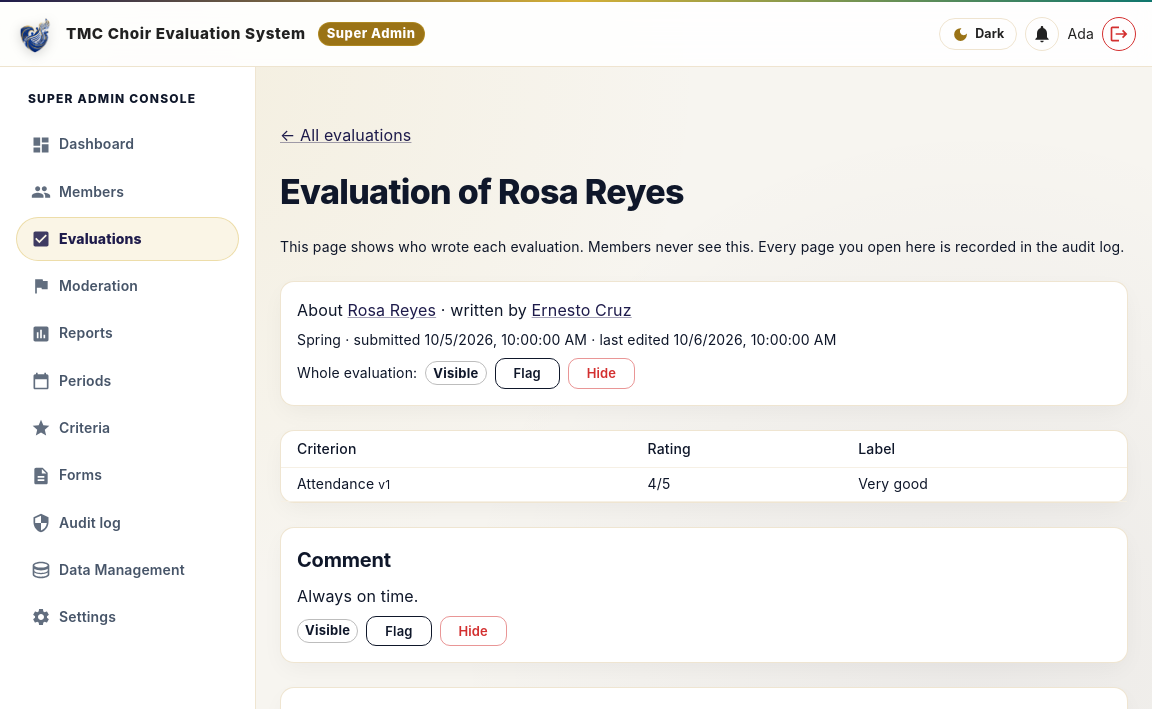
Test case: Evaluation detail and moderation (ADM-05) › requires a reason to hide, then hides the comment
Step 1. Click the button with aria-label "Hide comment" → (473,631), box [440,616,507,646]
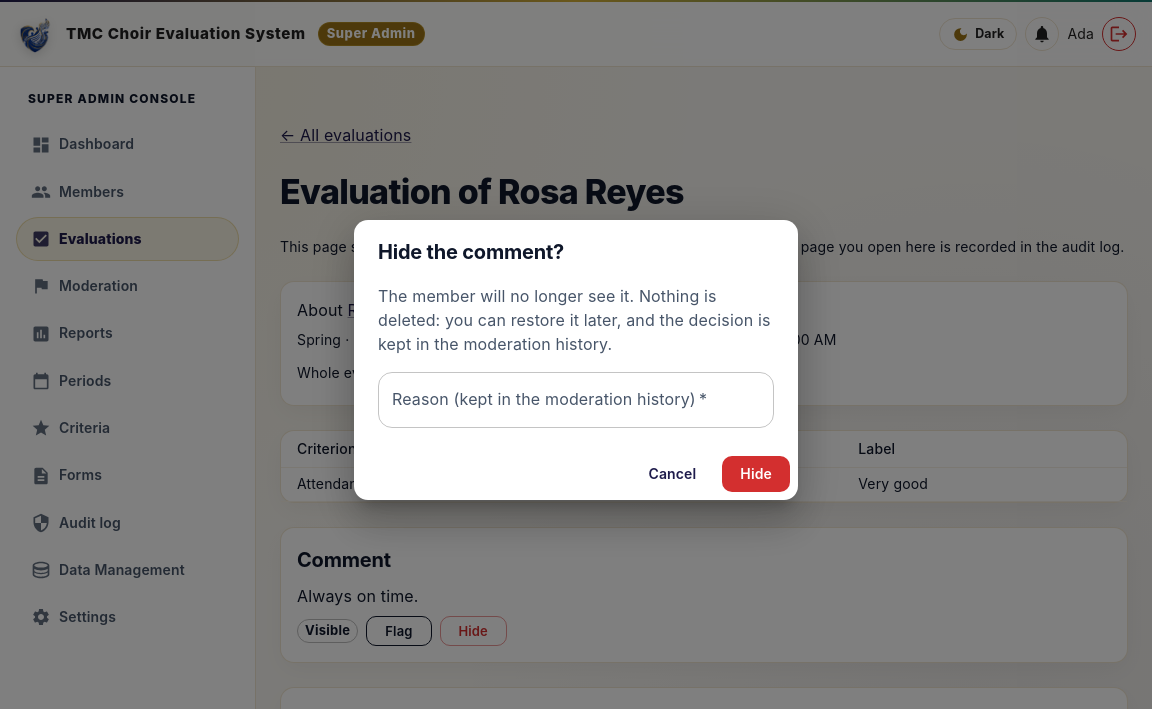
Now the text "Nothing is deleted" is shown, box [378,286,771,354]
Step 2. Click the button "Hide" → (756,474), box [722,456,790,492]
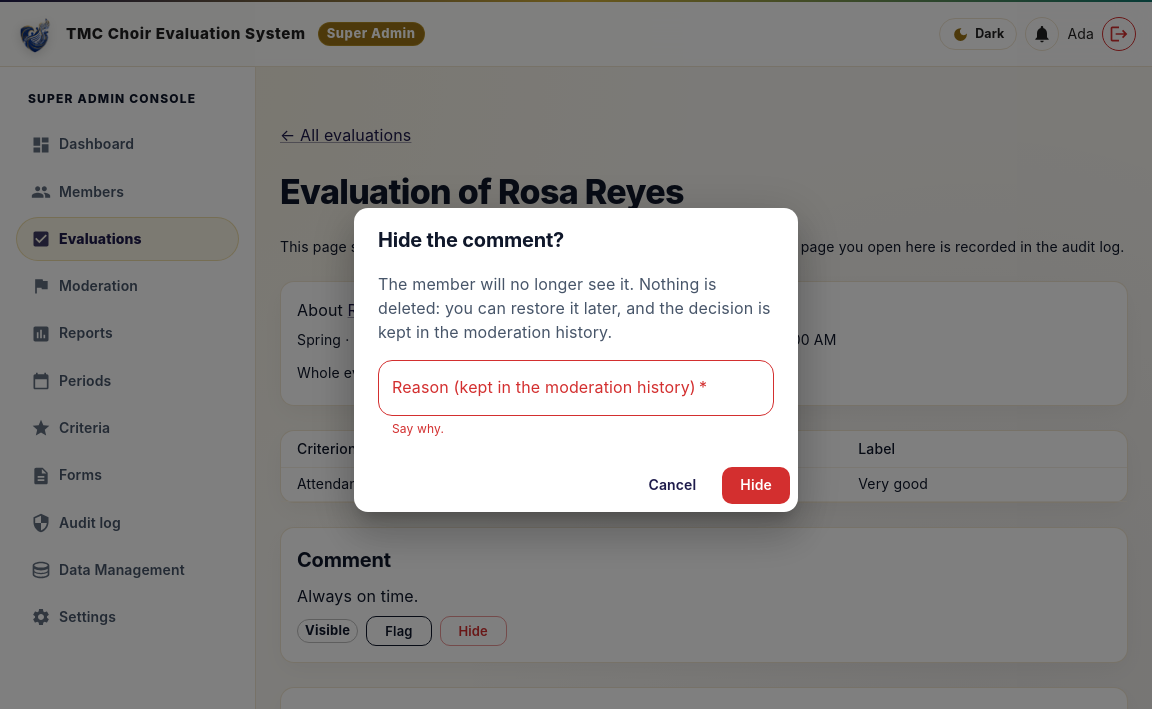
Now the text "Say why." is shown, box [392,421,444,436]
Step 3. Type "Personal remark" into the field labelled "Reason (kept in the moderation history) *" → (576,388), box [378,360,774,416]
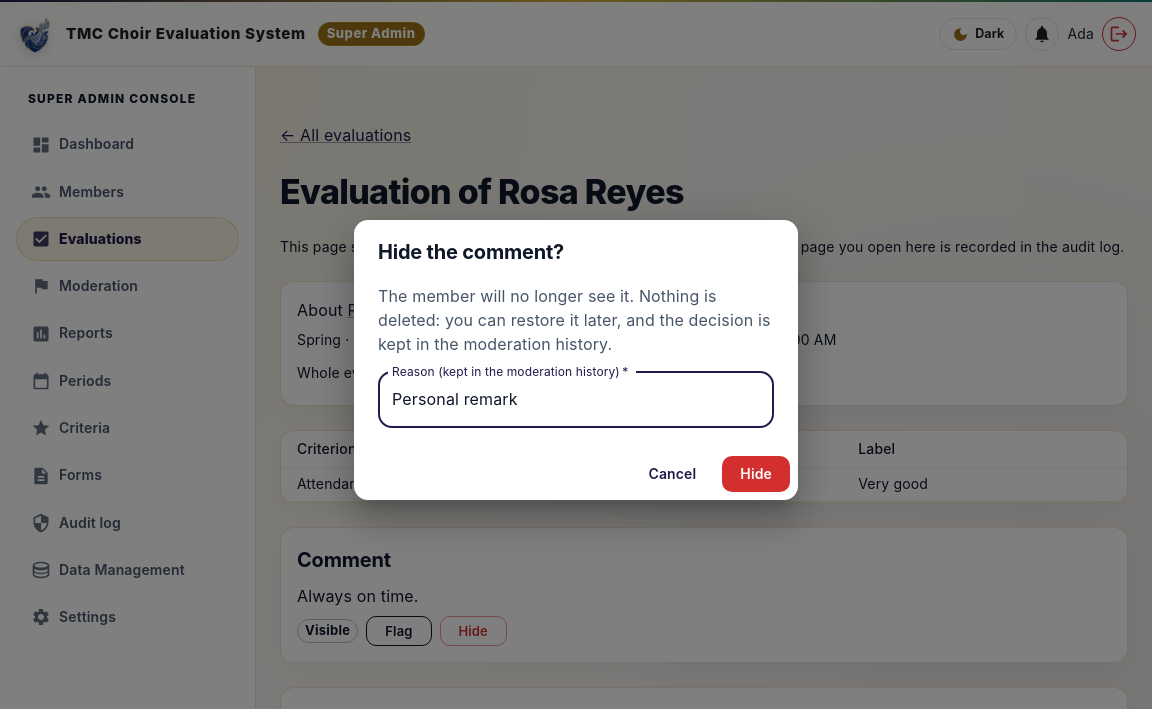
Step 4. Click the button "Hide" → (756,474), box [722,456,790,492]
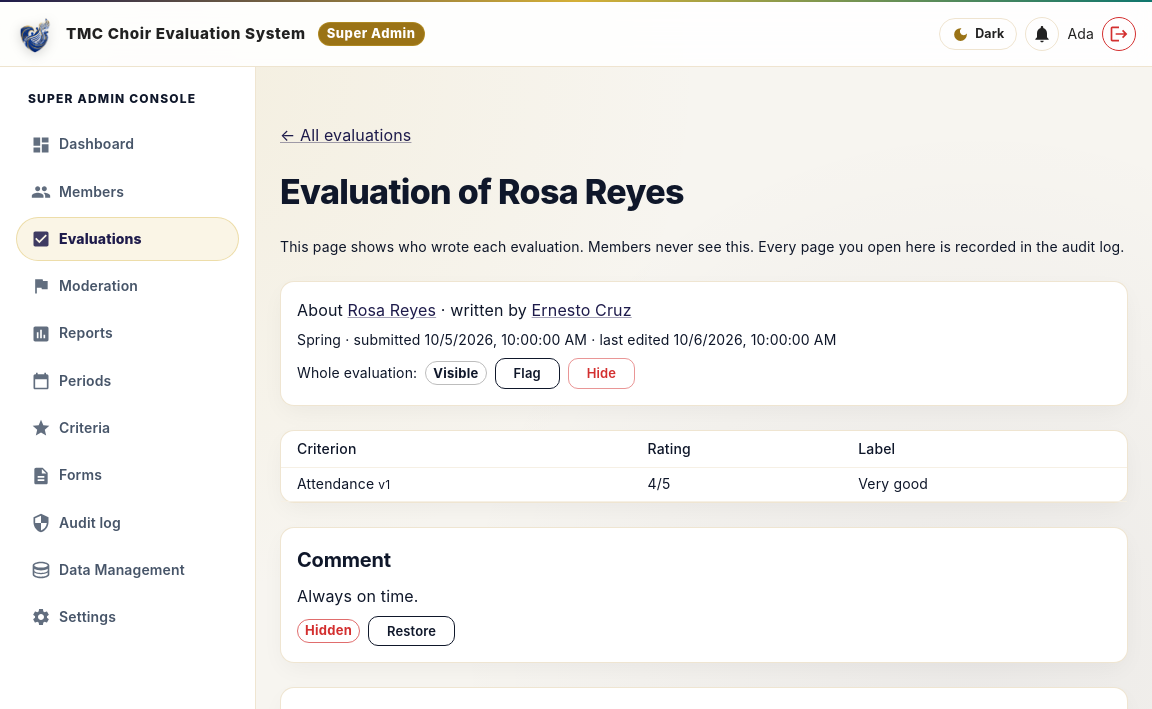
Now the button with aria-label "Restore comment" is shown, box [368,616,455,646]
Now the dialog is gone
